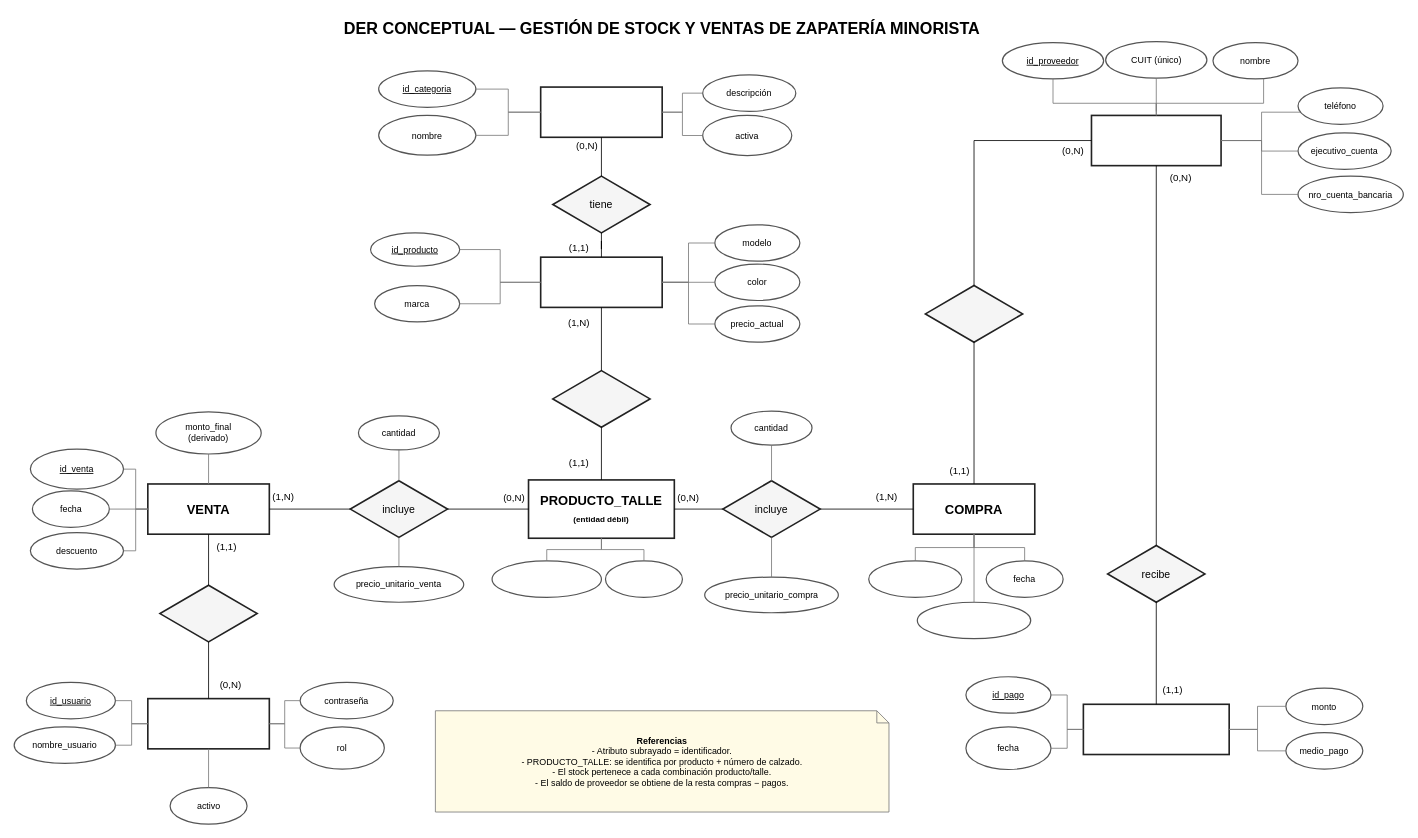
This 1418x838 diagram has some shape labels left out. The shapes that lost their labels are listed below. From the top down, each one's box as (x1, y1, x2, y2) in pixels, then its label:
(539, 86, 663, 138): CATEGORÍA
(1090, 114, 1221, 166): PROVEEDOR
(539, 256, 663, 308): PRODUCTO
(924, 284, 1023, 343): abastece
(552, 369, 650, 428): tiene talle
(491, 560, 602, 598): numero_calzado
(605, 560, 683, 598): stock
(868, 560, 962, 598): id_compra
(159, 584, 258, 642): registra
(916, 601, 1031, 639): nro_comprobante
(147, 697, 270, 749): USUARIO
(1082, 703, 1230, 755): PAGO_PROVEEDOR
